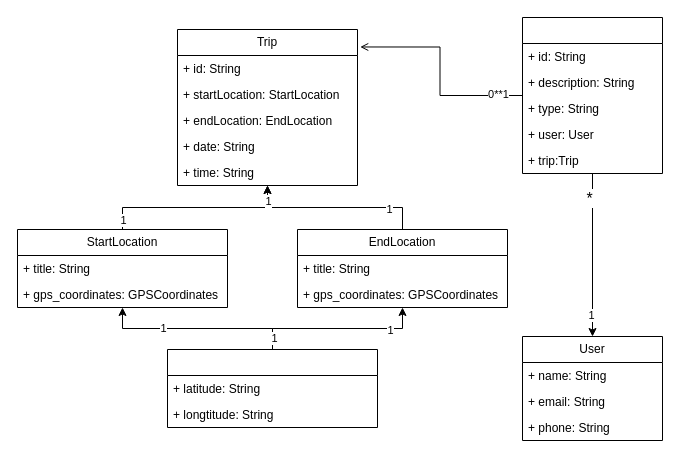
Image size: 680x461. Some labels were removed from this diagram. Each missing label, with the box of its shape:
GPSCoordinates: (166, 348, 378, 428)
Post: (522, 16, 662, 174)
